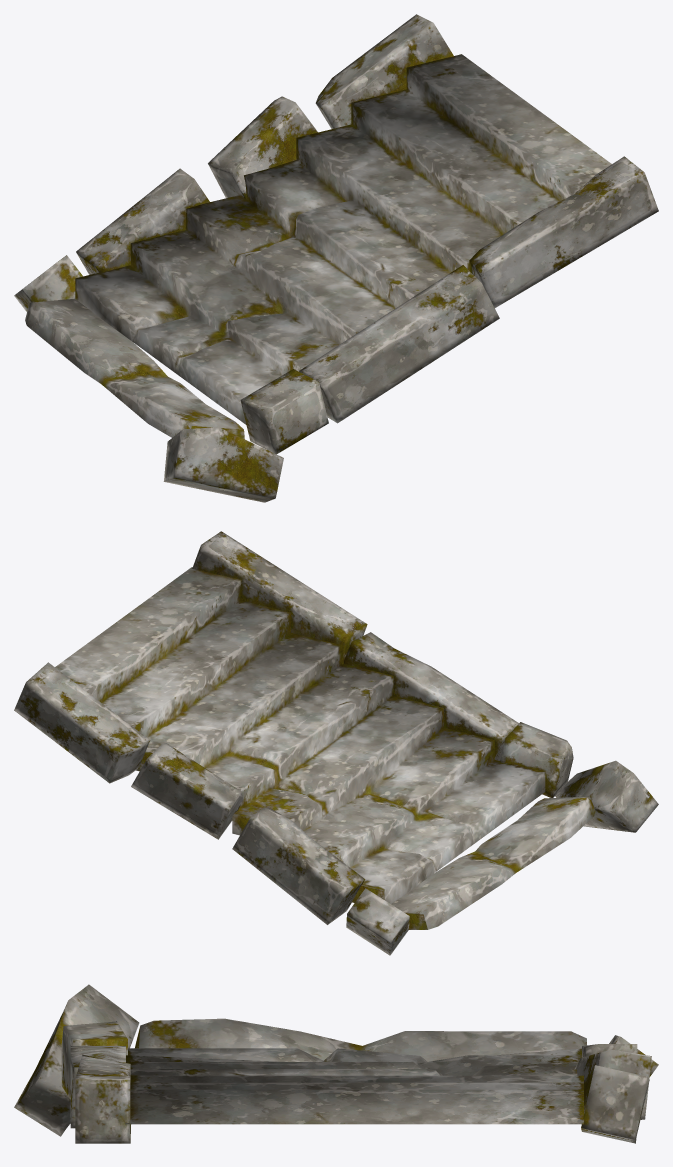
File: Stairs3.fbx
The picture shows the model from 3 angles, top to bottom: view 1: azimuth 30°, elevation 25°; view 2: azimuth 150°, elevation 25°; view 3: azimuth 270°, elevation 25°; orthographic projection. The views are drawn at different scales.
Parts seen in each view (by area): view 1: SM_a_001_Stairs_03a; view 2: SM_a_001_Stairs_03a; view 3: SM_a_001_Stairs_03a.
Part boxes in pixels (bbox=[...]): SM_a_001_Stairs_03a: bbox=[14, 14, 658, 502]; SM_a_001_Stairs_03a: bbox=[14, 531, 658, 955]; SM_a_001_Stairs_03a: bbox=[14, 984, 658, 1143].
Size of the model in its own units: 355 by 165 by 312.
